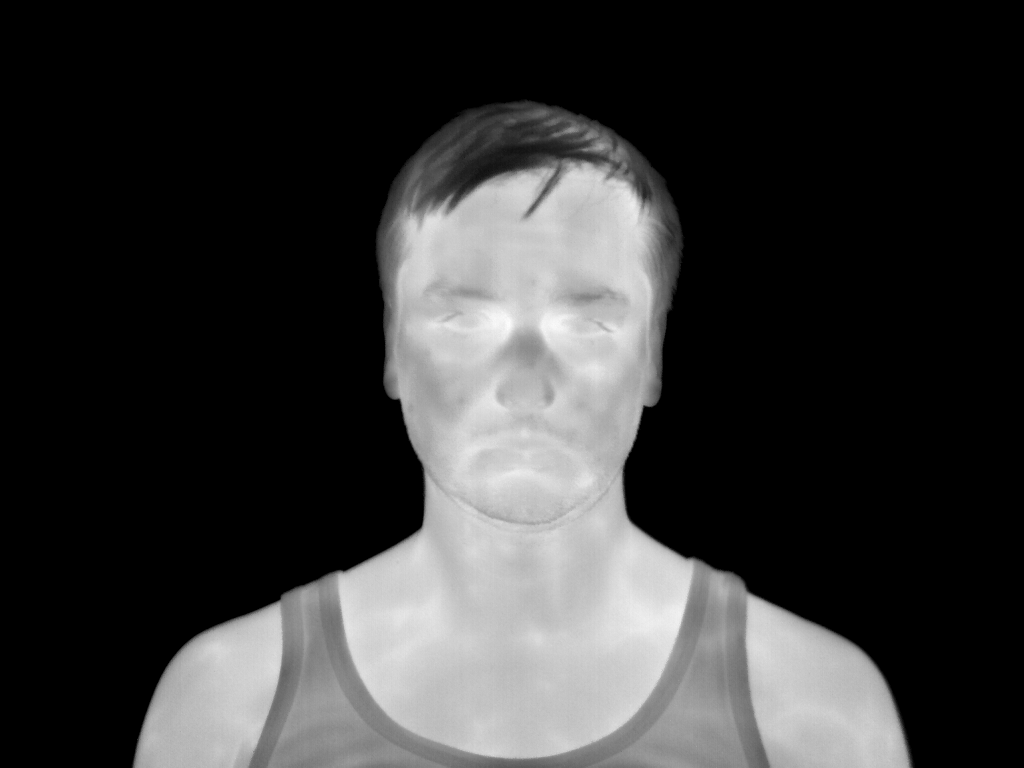face: (396, 167, 649, 523)
